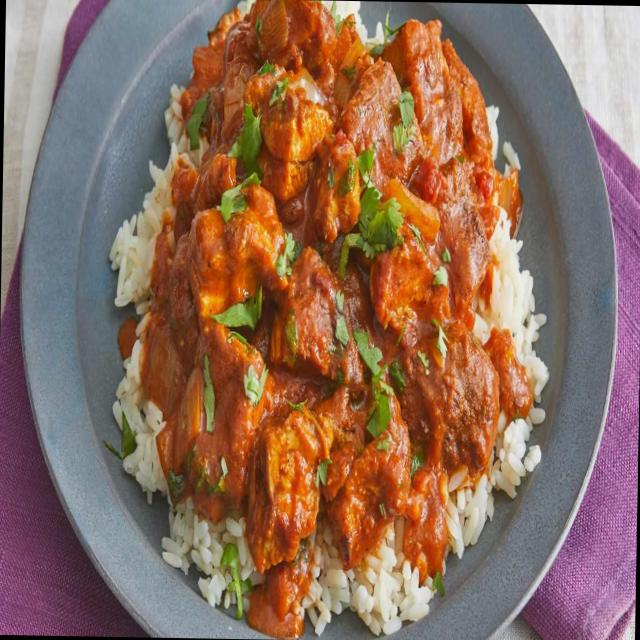chicken: (172, 59, 494, 542)
